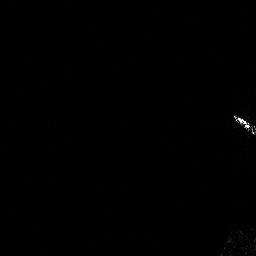ship: (231, 110, 256, 137)
